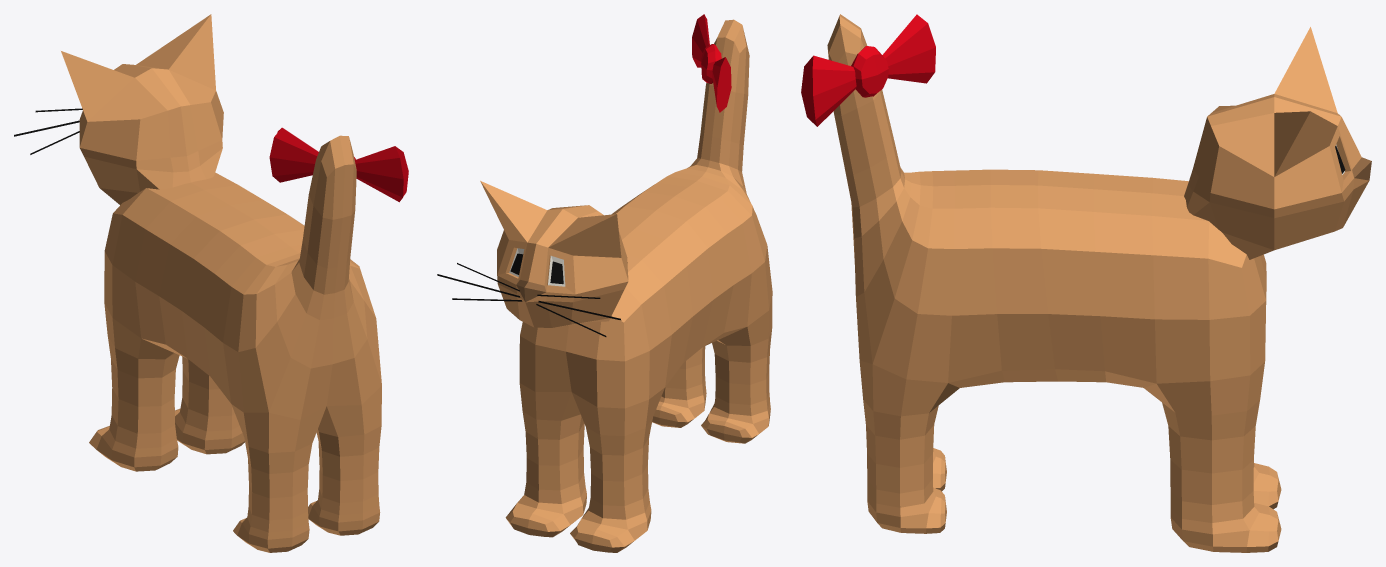
Rendered from cat.fbx.
3 renders of one model, left to right at view 1: azimuth 30°, elevation 25°; view 2: azimuth 150°, elevation 25°; view 3: azimuth 270°, elevation 25°, orthographic. The views are drawn at different scales.
Parts seen in each view (by area): view 1: Cube.001; view 2: Cube.001; view 3: Cube.001.
Boxes of the visible parts, x1,y1,x2,y2 form: Cube.001: (14,14,408,552); Cube.001: (437,14,772,552); Cube.001: (801,14,1371,552).
Size of the model in its own units: 68.44 by 32.28 by 67.23.
